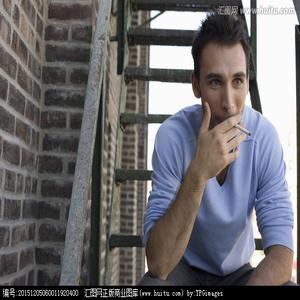cigarette: (236, 125, 253, 137)
